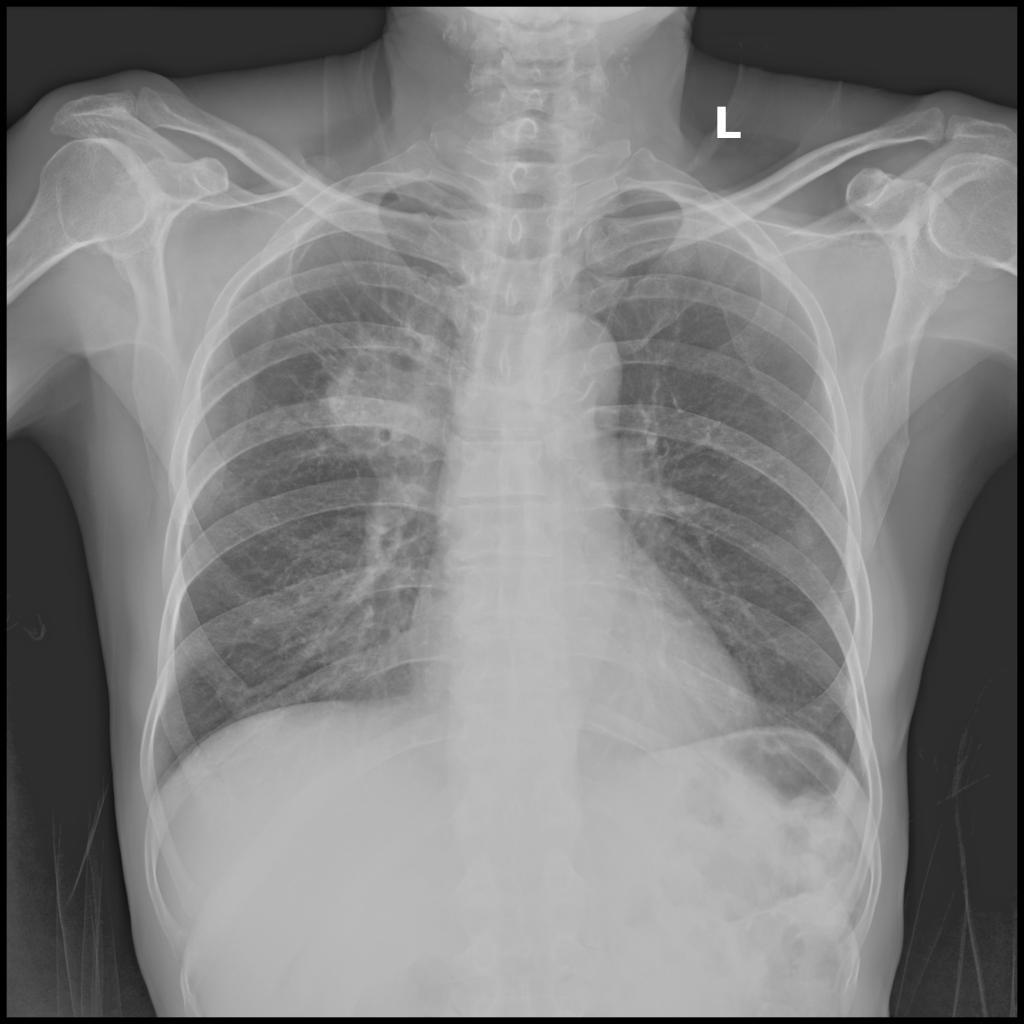Nodule: (320, 338, 451, 459)
